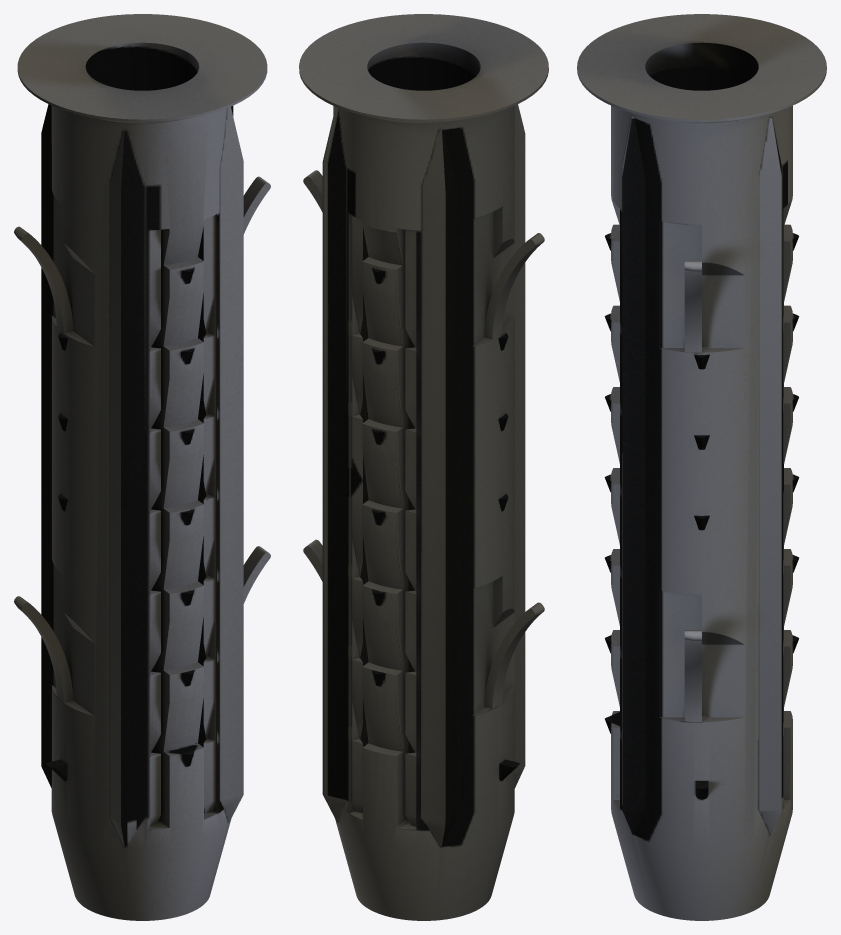
File: AXN.glb
3 views of the same model, side by side, from view 1: azimuth 30°, elevation 25°; view 2: azimuth 150°, elevation 25°; view 3: azimuth 270°, elevation 25° (orthographic).
Parts seen in each view (by area): view 1: AXN.002; view 2: AXN.002; view 3: AXN.002.
Part boxes in pixels (x1,y1,x2,y2): AXN.002: (14, 14, 270, 920); AXN.002: (299, 14, 548, 920); AXN.002: (577, 14, 826, 920).
Size of the model in its own units: 0.0123 by 0.0401 by 0.011.
Materials: 1 (1 with a texture image).
